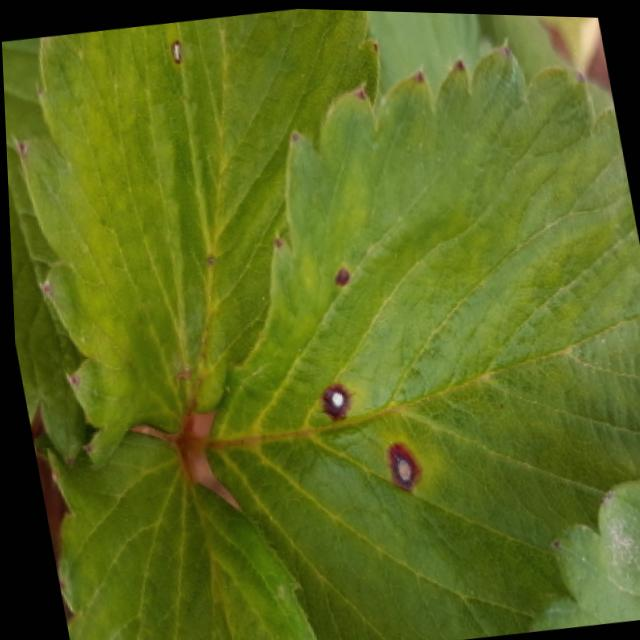Leaf Spot: (200, 37, 640, 640), (12, 7, 383, 471), (1, 37, 88, 469), (524, 479, 640, 629)
